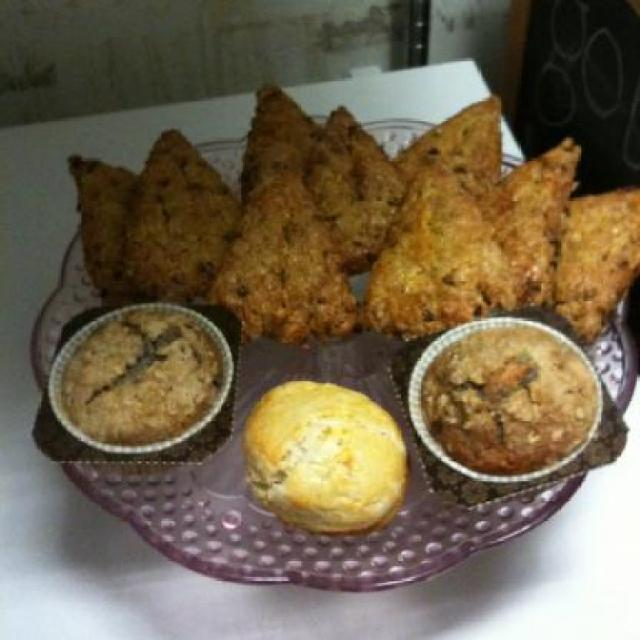Muffin: (239, 380, 412, 538)
